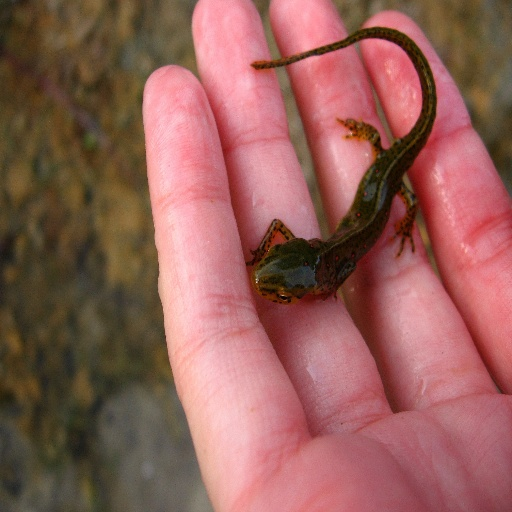hand: (142, 0, 511, 511)
